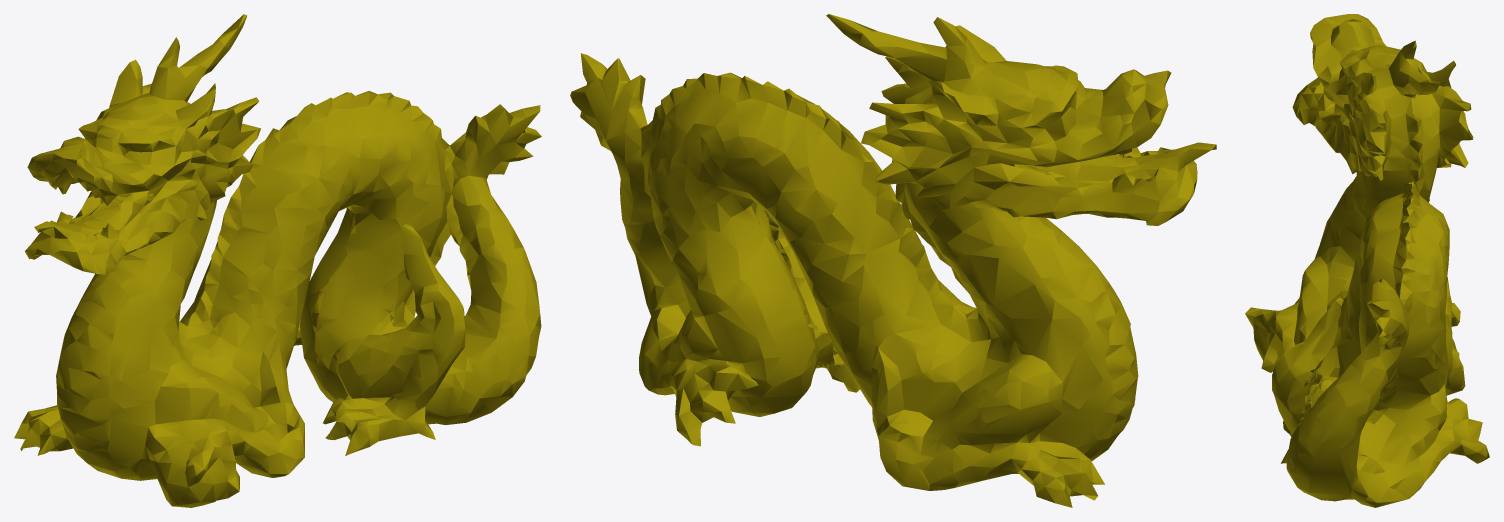
File: Dragon_Mid.fbx
3 renders of one model, left to right at view 1: azimuth 30°, elevation 25°; view 2: azimuth 150°, elevation 25°; view 3: azimuth 270°, elevation 25°, orthographic. The views are drawn at different scales.
Parts seen in each view (by area): view 1: Dragon_Mid; view 2: Dragon_Mid; view 3: Dragon_Mid.
Boxes of the visible parts, x1,y1,x2,y2 form: Dragon_Mid: (14,14,541,507); Dragon_Mid: (570,14,1216,507); Dragon_Mid: (1245,14,1489,507).
Bounding box in the file's own units: 217 × 154 × 97.56.
